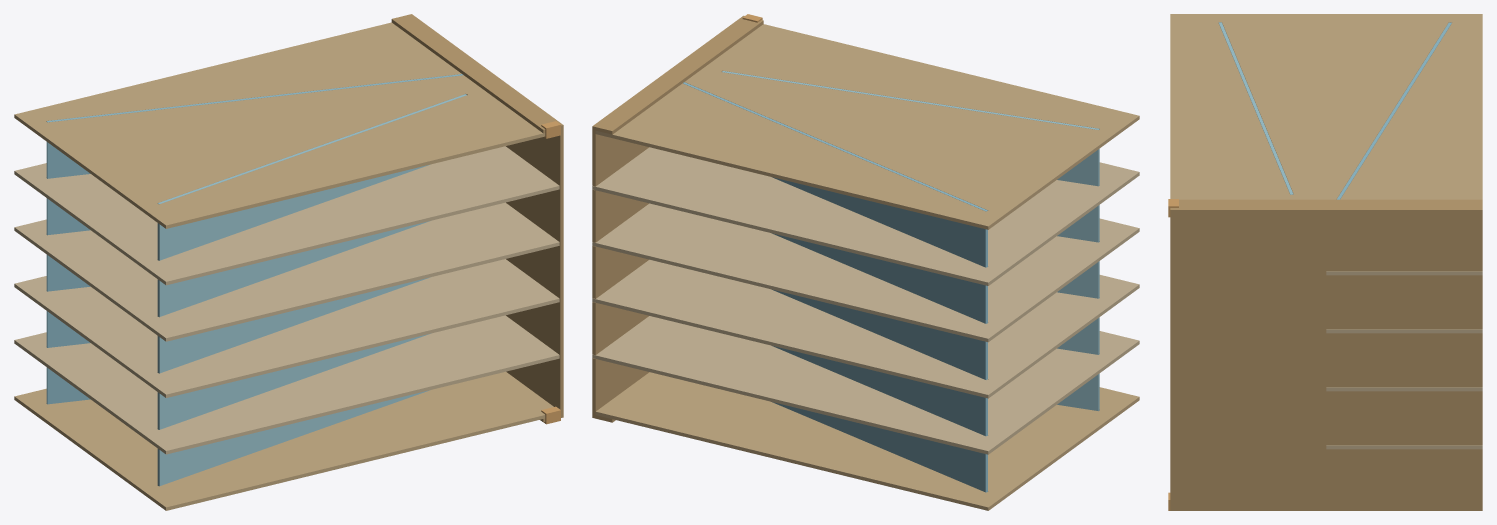
The model's file is V13_КАССЕТА_СБОРКА.glb.
The picture shows the model from 3 angles, left to right: view 1: azimuth 30°, elevation 25°; view 2: azimuth 150°, elevation 25°; view 3: azimuth 270°, elevation 25°; orthographic projection. The views are drawn at different scales.
Visible parts, largest first — view 1: wall_6, wall_3, wall_5, wall_4, wall_2, wall_1, upper, rear, lower, rear_wing_right; view 2: wall_6, wall_4, wall_2, wall_5, wall_3, wall_1, lower, rear, upper, rear_wing_right; view 3: rear, wall_6, rear_wing_right, rear_wing_left, wall_2, wall_3, wall_4, wall_5, lower, upper.
Part boxes in pixels (left/top/right/bottom): wall_6: left=14, top=22, right=545, bottom=228; wall_3: left=14, top=259, right=559, bottom=397; wall_5: left=14, top=146, right=559, bottom=285; wall_4: left=14, top=202, right=559, bottom=341; wall_2: left=14, top=315, right=559, bottom=454; wall_1: left=14, top=371, right=553, bottom=510; upper: left=157, top=94, right=466, bottom=486; rear: left=506, top=128, right=563, bottom=414; lower: left=46, top=74, right=463, bottom=404; rear_wing_right: left=391, top=14, right=563, bottom=133; wall_6: left=595, top=24, right=1139, bottom=229; wall_4: left=592, top=203, right=1139, bottom=342; wall_2: left=592, top=316, right=1139, bottom=454; wall_5: left=592, top=147, right=1139, bottom=285; wall_3: left=592, top=259, right=1139, bottom=398; wall_1: left=595, top=372, right=1139, bottom=510; lower: left=683, top=82, right=987, bottom=492; rear: left=592, top=130, right=649, bottom=414; upper: left=722, top=71, right=1099, bottom=411; rear_wing_right: left=592, top=15, right=763, bottom=134; rear: left=1170, top=213, right=1482, bottom=507; wall_6: left=1170, top=14, right=1482, bottom=199; rear_wing_right: left=1170, top=199, right=1482, bottom=213; rear_wing_left: left=1170, top=507, right=1482, bottom=510; wall_2: left=1326, top=445, right=1482, bottom=449; wall_3: left=1326, top=387, right=1482, bottom=391; wall_4: left=1326, top=329, right=1482, bottom=333; wall_5: left=1326, top=271, right=1482, bottom=275; lower: left=1337, top=22, right=1451, bottom=199; upper: left=1218, top=22, right=1293, bottom=194.
Size of the model in its own units: 590 by 420 by 392.
